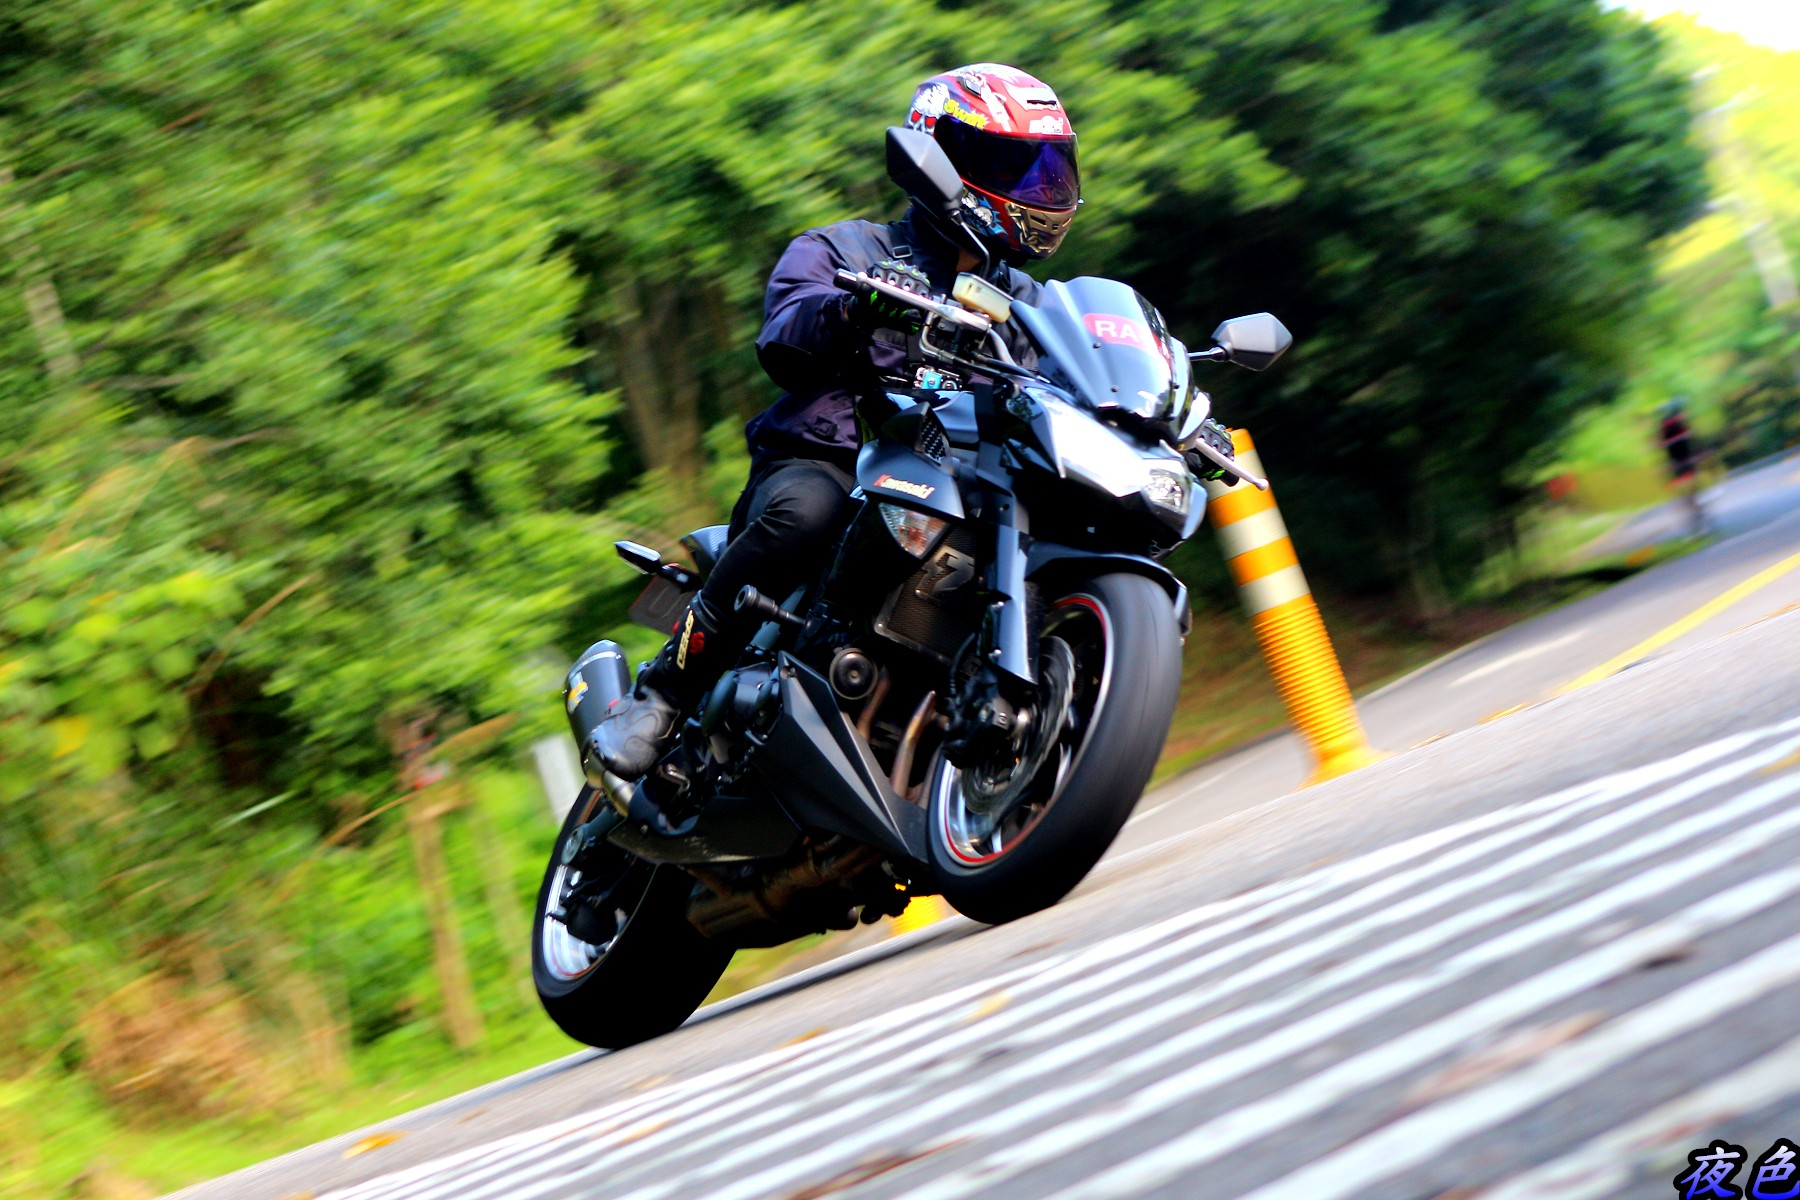helmet: (883, 51, 1090, 246)
